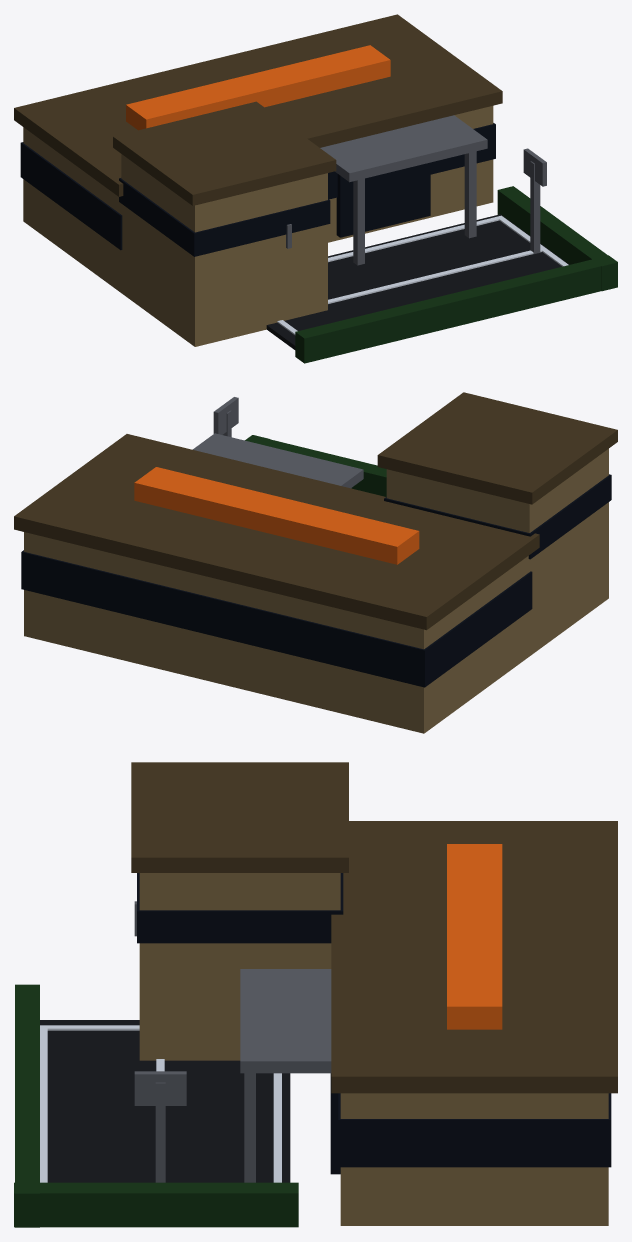
Rendered from school.obj.
The picture shows the model from 3 angles, top to bottom: view 1: azimuth 30°, elevation 25°; view 2: azimuth 150°, elevation 25°; view 3: azimuth 270°, elevation 25°; orthographic projection. The views are drawn at different scales.
Parts seen in each view (by area): view 1: hall-roof, gym, hedge, gym-roof, playground, hall, clerestory, entrance-canopy, gym-glazing, hall-glazing, entrance, hoops (+2 smaller); view 2: hall-roof, hall, hall-glazing, gym-roof, gym, clerestory, entrance-canopy, gym-glazing, hedge, hoops; view 3: hall-roof, playground, gym-roof, hall, gym, hedge, hall-glazing, entrance-canopy, clerestory, gym-glazing, hoops, court-lines-front (+2 smaller).
Boxes of the visible parts, box(x1,y1,x2,y2) form: hall-roof: box(14, 14, 502, 196); gym: box(121, 154, 327, 346); hedge: box(295, 186, 617, 363); gym-roof: box(113, 101, 336, 205); playground: box(266, 214, 569, 349); hall: box(23, 106, 493, 292); clerestory: box(126, 45, 390, 130); entrance-canopy: box(320, 115, 487, 265); gym-glazing: box(119, 178, 330, 256); hall-glazing: box(20, 123, 495, 250); entrance: box(336, 162, 430, 237); hoops: box(286, 148, 546, 253); hall-roof: box(14, 434, 539, 630); hall: box(24, 532, 529, 733); hall-glazing: box(21, 550, 532, 687); gym-roof: box(377, 392, 617, 504); gym: box(386, 448, 608, 655); clerestory: box(134, 467, 419, 564); entrance-canopy: box(193, 433, 363, 488); gym-glazing: box(384, 474, 611, 559); hedge: box(245, 435, 386, 496); hoops: box(213, 397, 238, 437); hall-roof: box(331, 821, 617, 1093); playground: box(40, 1020, 290, 1182); gym-roof: box(131, 762, 348, 872); hall: box(340, 1093, 608, 1225); gym: box(139, 873, 340, 1060); hedge: box(14, 984, 298, 1227); hall-glazing: box(338, 1093, 611, 1167); entrance-canopy: box(240, 969, 331, 1182); clerestory: box(447, 844, 502, 1029); gym-glazing: box(137, 873, 343, 943); hoops: box(134, 901, 186, 1182); court-lines-front: box(40, 1025, 47, 1182).
Size of the model in its own units: 7.22 by 2.8 by 7.21.
